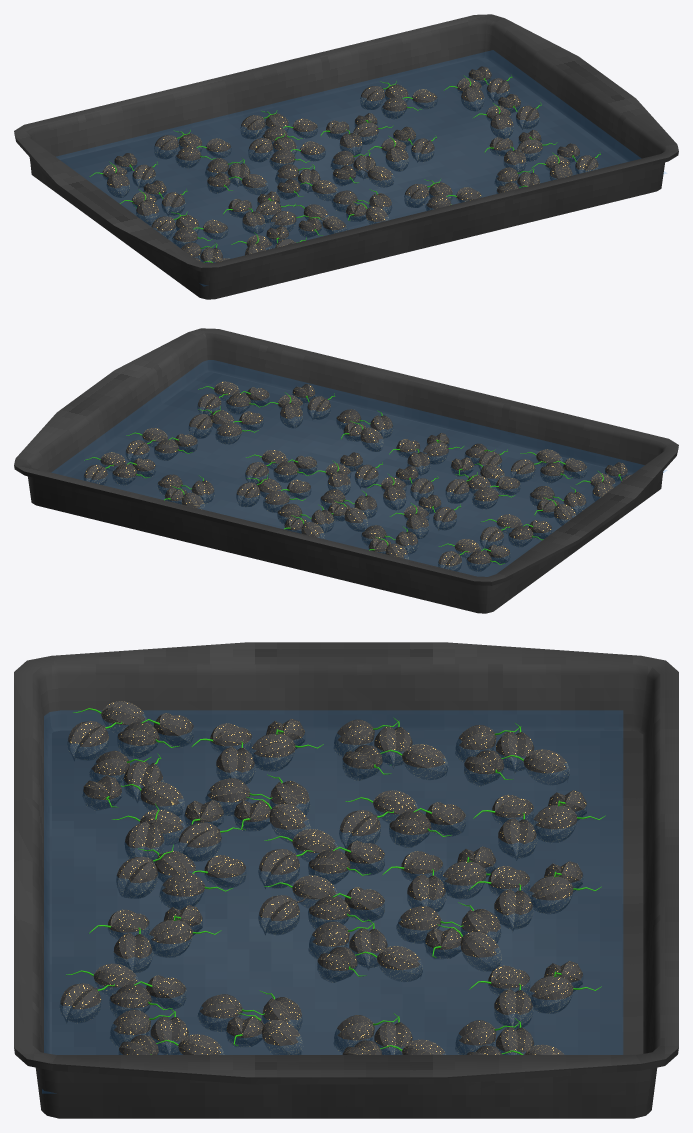
The model's file is sproutedmalt.fbx.
3 views of the same model, one above another, from view 1: azimuth 30°, elevation 25°; view 2: azimuth 150°, elevation 25°; view 3: azimuth 270°, elevation 25° (orthographic). The views are drawn at different scales.
Visible parts, largest first — view 1: Об'єкт; view 2: Об'єкт; view 3: Об'єкт.
Boxes of the visible parts, box(x1,y1,x2,y2) form: Об'єкт: box(14, 14, 678, 299); Об'єкт: box(14, 328, 678, 613); Об'єкт: box(14, 642, 678, 1118).
Size of the model in its own units: 0.5123 by 0.0365 by 0.3309.
